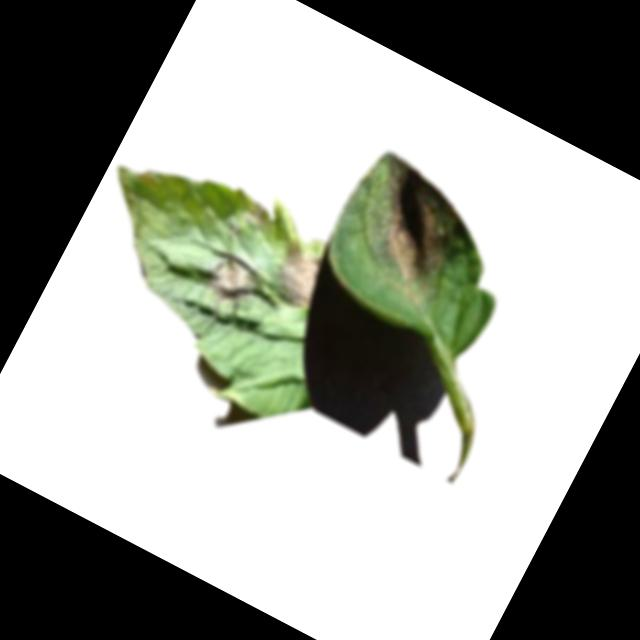Late_blight: (344, 153, 478, 295), (262, 239, 332, 316), (200, 247, 272, 317), (237, 197, 275, 237), (135, 163, 163, 189)
